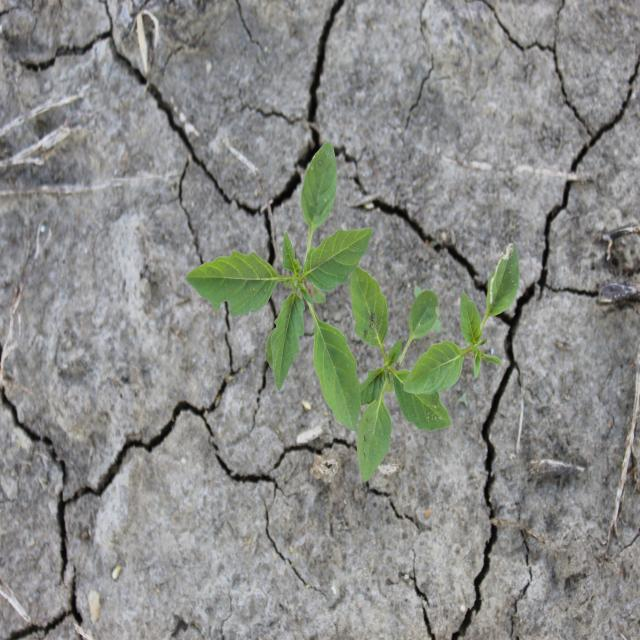CutleafGroundcherry: (183, 140, 374, 433), (350, 264, 452, 484), (403, 242, 521, 396)
